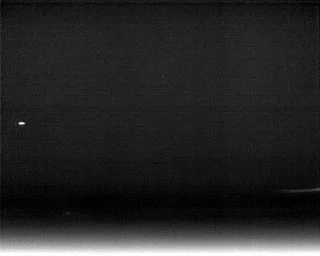AIRPLANE: (17, 119, 27, 128)
